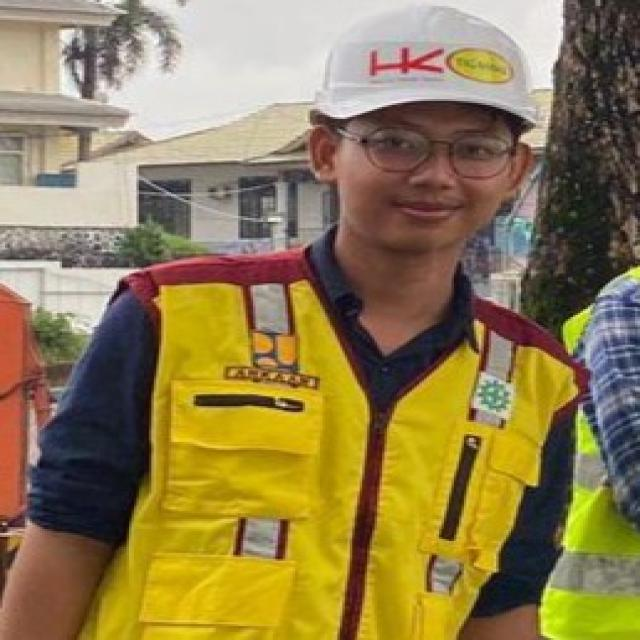safetyhelmet: (298, 9, 544, 236)
